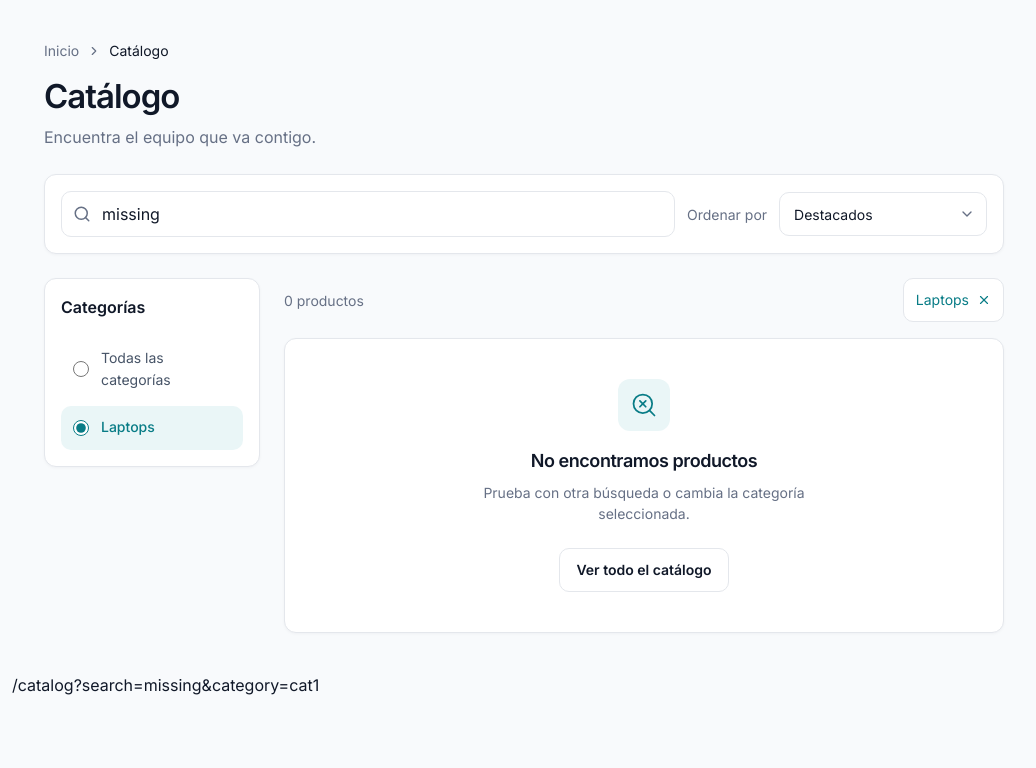
Test case: Product cards and catalog › clears the existing selection from the empty state and shows no invented products
Expected: the heading "No encontramos productos" is shown, top-left (531, 447), bottom-right (757, 474)
Expected: the text "0 productos" is shown, top-left (284, 290), bottom-right (364, 311)
Click the button "Ver todo el catálogo". click: (644, 570)
box: top-left (559, 548), bottom-right (729, 592)
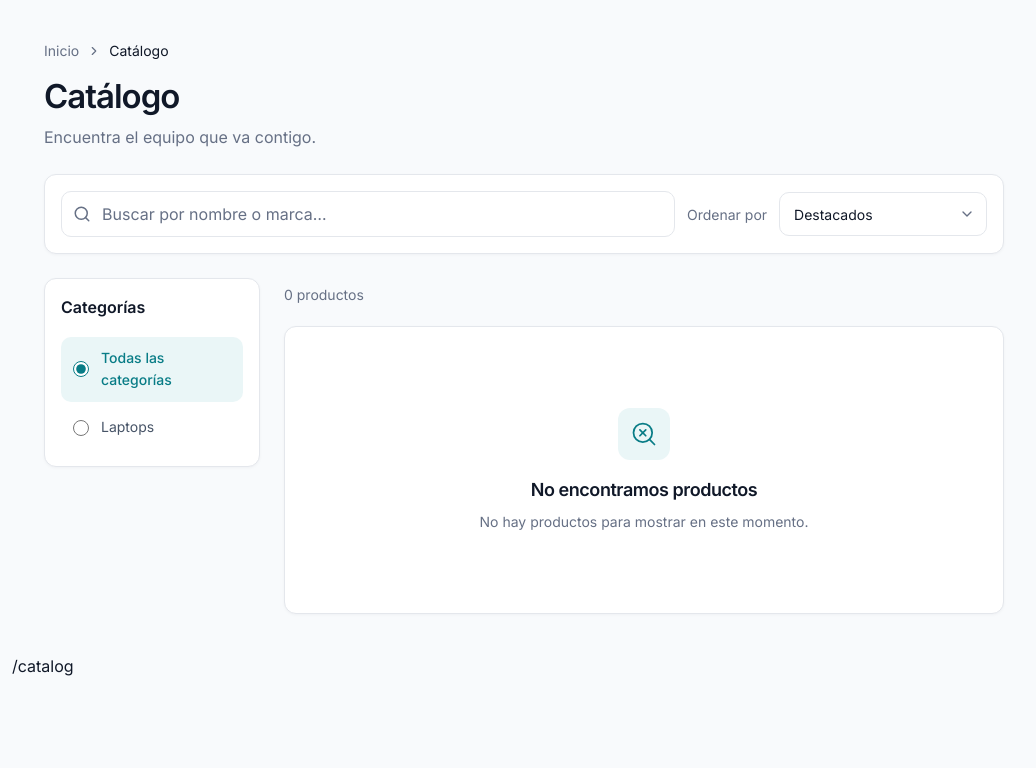
Now the text named "Ruta actual" reads "/catalog", box top-left (12, 656), bottom-right (74, 676)
